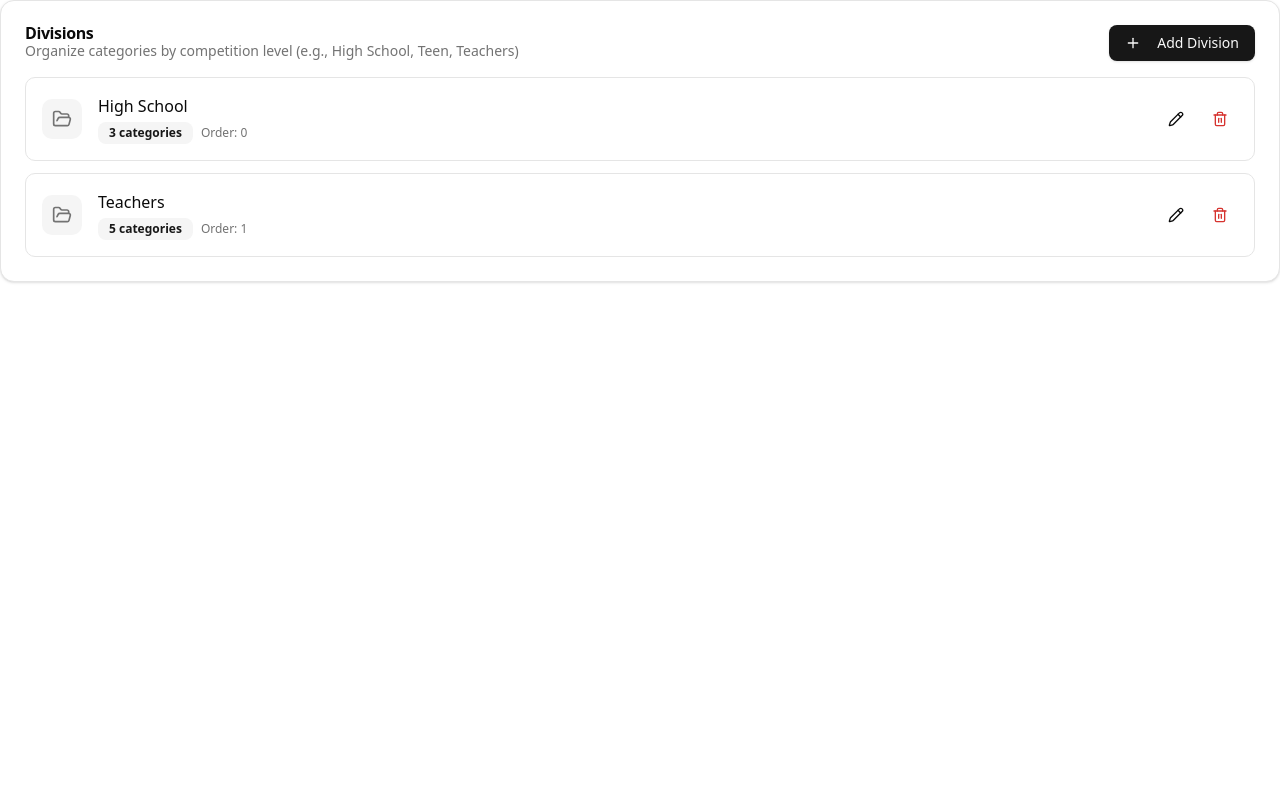
Test: DivisionList › Add Division button (AC3) › opens CreateDivisionSheet when Add Division is clicked
This screenshot has width=1280, height=800.
Expected: the heading "High School" is shown, top-left (98, 95), bottom-right (188, 117)
Click the button "Add Division". click: x=1182, y=43
box: top-left (1109, 25), bottom-right (1255, 61)
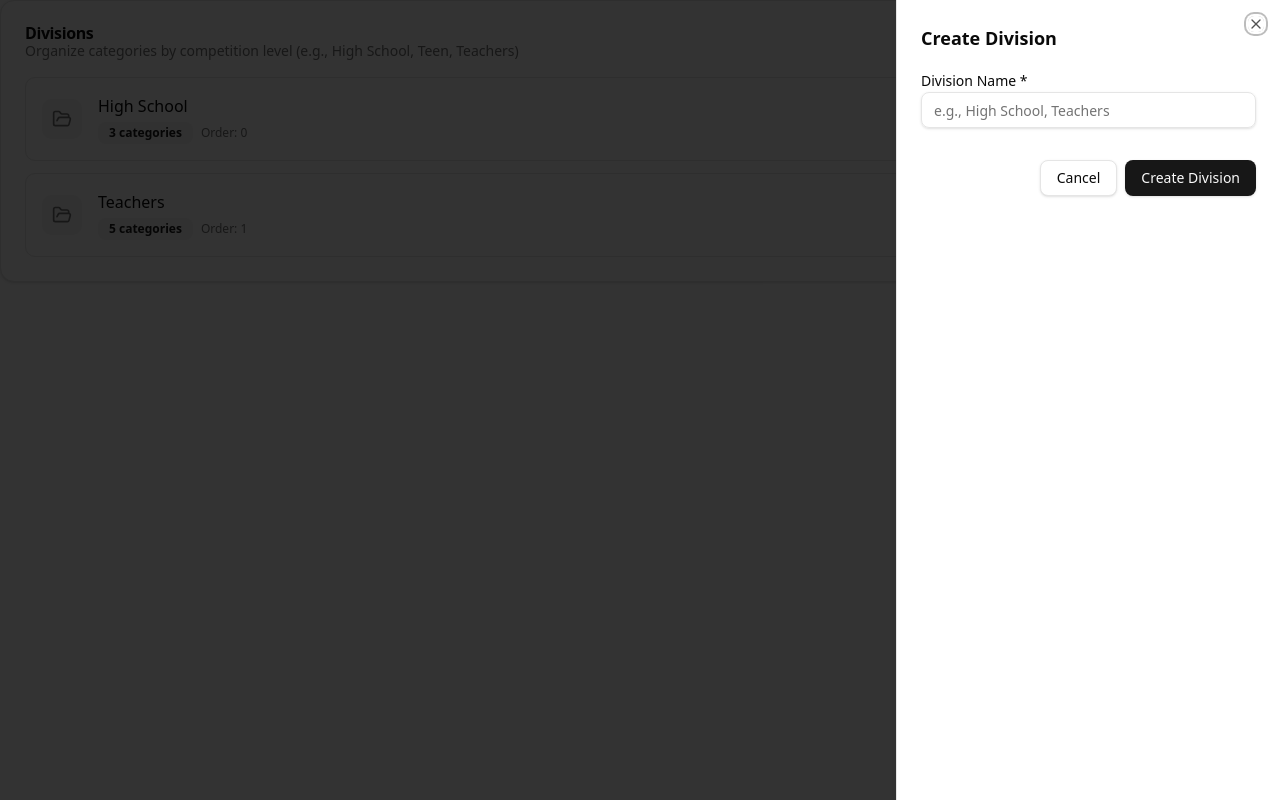
Expected: the field labelled "Division Name *" is shown, top-left (921, 92), bottom-right (1256, 128)
